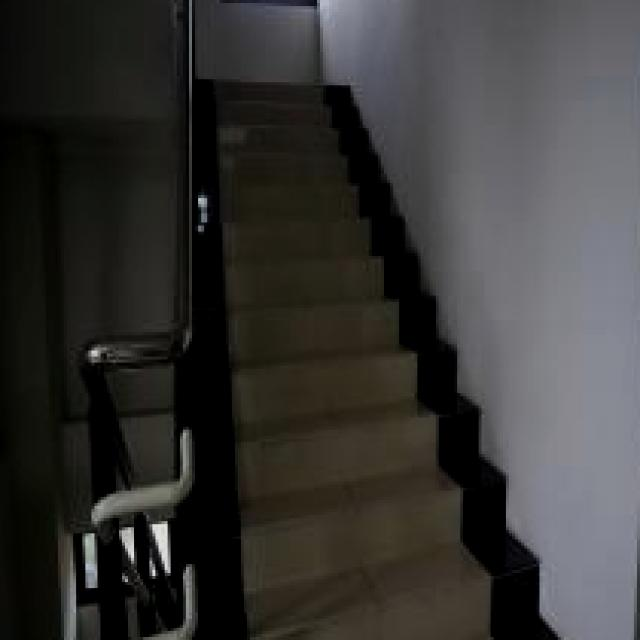upstair: (218, 62, 465, 640)
